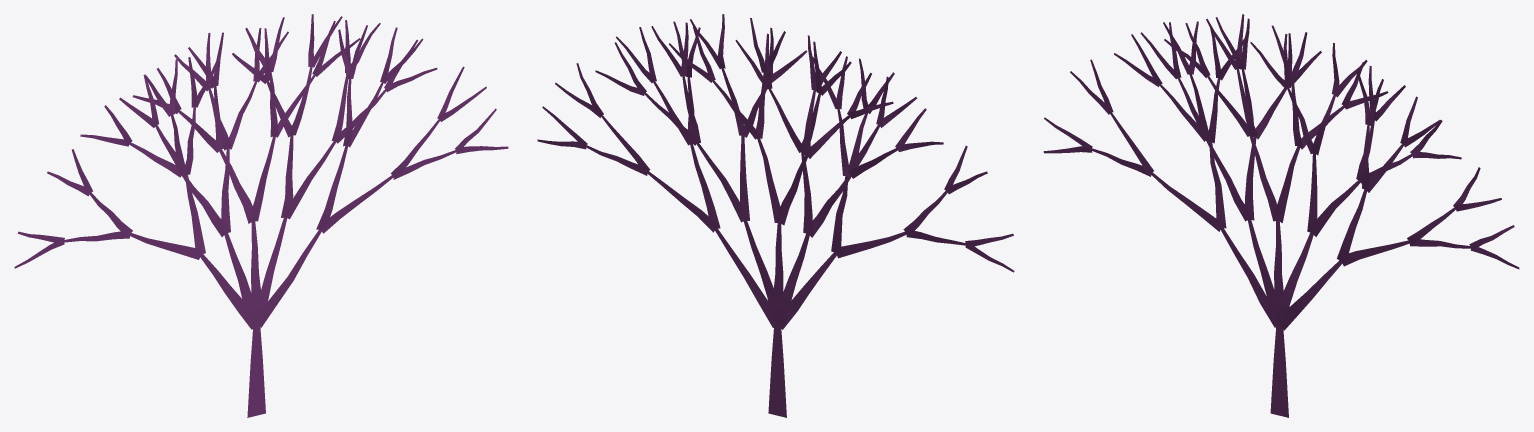
Rendered from gorgone.glb.
3 renders of one model, left to right at view 1: azimuth 30°, elevation 25°; view 2: azimuth 150°, elevation 25°; view 3: azimuth 330°, elevation 25°, orthographic.
Parts seen in each view (by area): view 1: gorgone; view 2: gorgone; view 3: gorgone.
Part boxes in pixels (left/top/right/bottom): gorgone: left=14, top=14, right=508, bottom=417; gorgone: left=537, top=14, right=1014, bottom=417; gorgone: left=1043, top=14, right=1519, bottom=417.
Size of the model in its own units: 1.18 by 0.9064 by 0.0453.
